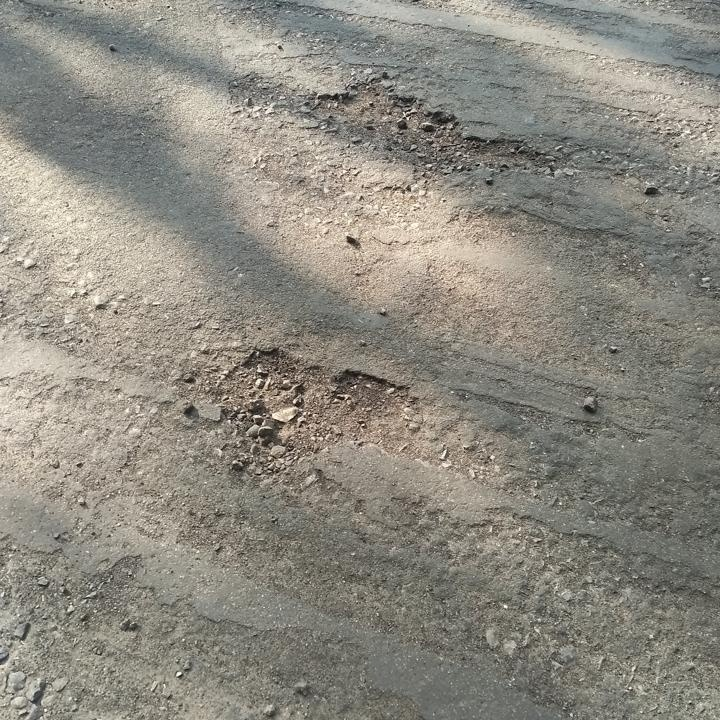pothole: (215, 339, 417, 487), (300, 72, 556, 187)
